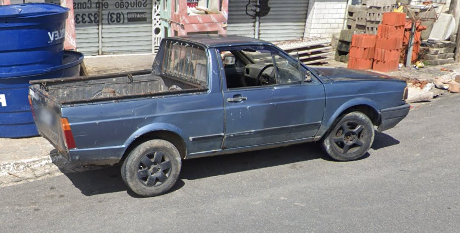car: (23, 31, 412, 199)
